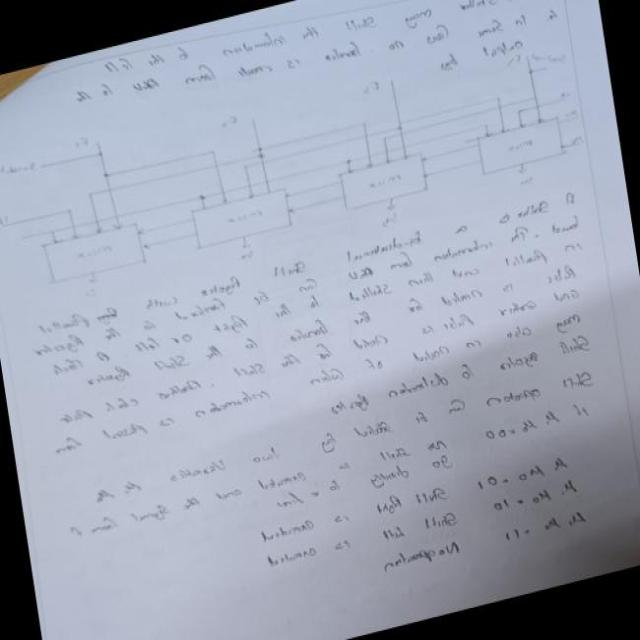Figure Detection - v3 Dataset Version2: (0, 9, 593, 328)
